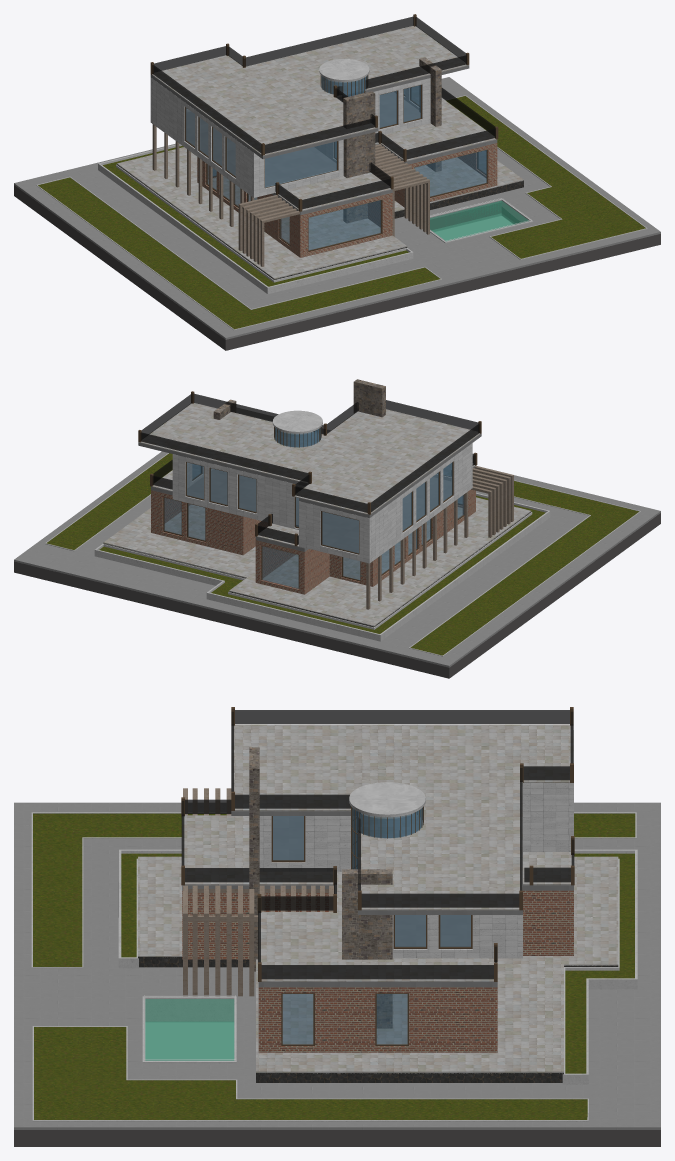
Rendered from modern_luxury_villa_house_building_home.glb.
The picture shows the model from 3 angles, top to bottom: view 1: azimuth 30°, elevation 25°; view 2: azimuth 150°, elevation 25°; view 3: azimuth 270°, elevation 25°; orthographic projection. The views are drawn at different scales.
Visible parts, largest first — view 1: Line013_12 - Car Paint_0, Line010_Wall Paint_0, Line019, Line022_24 - Default_0, Line017, Line025_Wall Paint_0, Line002_Ceramic_0, Shape063_01 - Default_0, Line006_Wall Paint_0, Line001_Solid Glass_0, Line004_Wall Paint_0, Line015_05 - Default_0 (+21 smaller); view 2: Line010_Wall Paint_0, Line013_12 - Car Paint_0, Line025_Wall Paint_0, Line002_Ceramic_0, Line019, Line001_Solid Glass_0, Line022_24 - Default_0, Shape063_01 - Default_0, Line015_05 - Default_0, Line007_Metal_0, Line016_04 - Default_0, Line017 (+15 smaller); view 3: Line013_12 - Car Paint_0, Line010_Wall Paint_0, Line025_Wall Paint_0, Line017, Line001_Solid Glass_0, Line006_Wall Paint_0, Line019, Line022_24 - Default_0, Line002_Ceramic_0, Shape063_01 - Default_0, Line021, Line016_04 - Default_0 (+23 smaller).
Boxes of the visible parts, bbox=[...] form: Line013_12 - Car Paint_0: bbox=[14, 77, 660, 339]; Line010_Wall Paint_0: bbox=[152, 26, 469, 156]; Line019: bbox=[38, 177, 439, 329]; Line022_24 - Default_0: bbox=[14, 185, 660, 350]; Line017: bbox=[446, 96, 645, 258]; Line025_Wall Paint_0: bbox=[117, 147, 523, 279]; Line002_Ceramic_0: bbox=[150, 77, 430, 197]; Shape063_01 - Default_0: bbox=[152, 16, 467, 153]; Line006_Wall Paint_0: bbox=[275, 86, 496, 211]; Line001_Solid Glass_0: bbox=[197, 143, 497, 257]; Line004_Wall Paint_0: bbox=[208, 157, 486, 250]; Line015_05 - Default_0: bbox=[98, 144, 413, 293]; Line010_Wall Paint_0: bbox=[138, 403, 480, 515]; Line013_12 - Car Paint_0: bbox=[14, 408, 660, 667]; Line025_Wall Paint_0: bbox=[103, 496, 531, 626]; Line002_Ceramic_0: bbox=[172, 443, 472, 563]; Line019: bbox=[410, 481, 639, 655]; Line001_Solid Glass_0: bbox=[151, 489, 475, 594]; Line022_24 - Default_0: bbox=[14, 513, 660, 678]; Shape063_01 - Default_0: bbox=[140, 393, 480, 512]; Line015_05 - Default_0: bbox=[94, 493, 550, 641]; Line007_Metal_0: bbox=[187, 469, 451, 552]; Line016_04 - Default_0: bbox=[99, 495, 545, 633]; Line017: bbox=[46, 453, 172, 549]; Line013_12 - Car Paint_0: bbox=[14, 802, 660, 1129]; Line010_Wall Paint_0: bbox=[231, 724, 573, 910]; Line025_Wall Paint_0: bbox=[138, 856, 618, 1073]; Line017: bbox=[34, 1027, 587, 1119]; Line001_Solid Glass_0: bbox=[182, 890, 573, 1052]; Line006_Wall Paint_0: bbox=[182, 815, 573, 981]; Line019: bbox=[33, 813, 635, 966]; Line022_24 - Default_0: bbox=[14, 1130, 660, 1146]; Line002_Ceramic_0: bbox=[259, 730, 573, 958]; Shape063_01 - Default_0: bbox=[231, 710, 573, 907]; Line021: bbox=[181, 799, 497, 979]; Line016_04 - Default_0: bbox=[121, 853, 634, 1073].
Size of the model in its own units: 30.21 by 9.95 by 25.44.
Materials: 18 (11 with a texture image).
